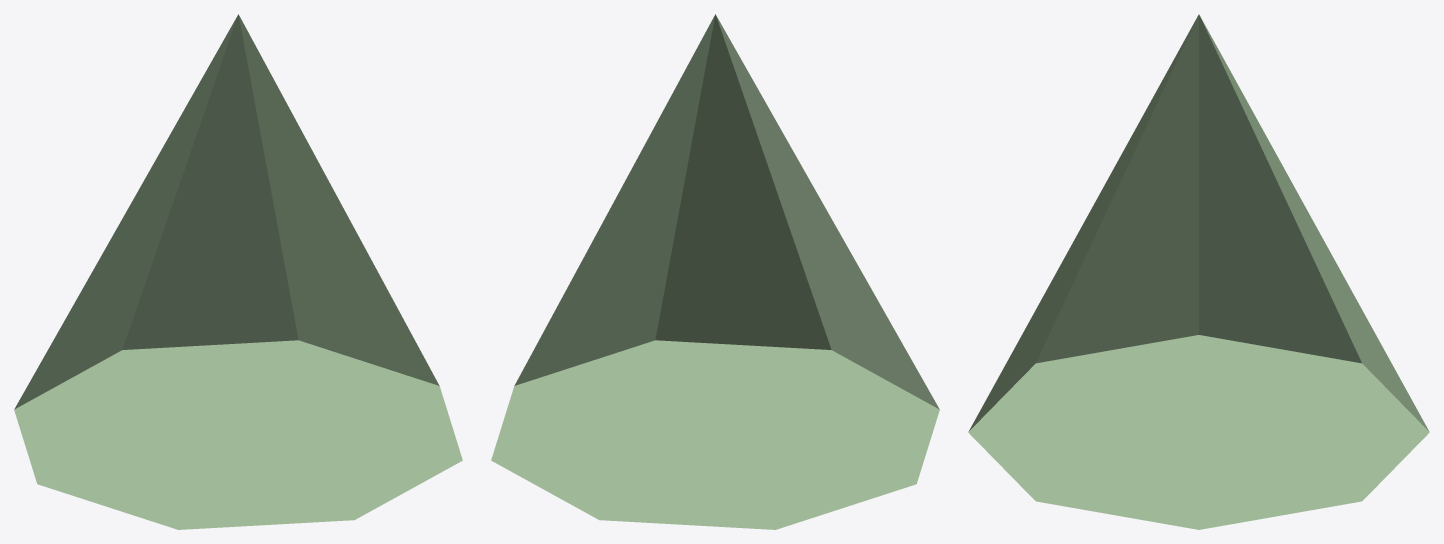
File: tree_round_01.glb
The picture shows the model from 3 angles, left to right: view 1: azimuth 30°, elevation 25°; view 2: azimuth 150°, elevation 25°; view 3: azimuth 270°, elevation 25°; orthographic projection.
Visible parts, largest first — view 1: 圆冠树; view 2: 圆冠树; view 3: 圆冠树.
Boxes of the visible parts, x1,y1,x2,y2 form: 圆冠树: (14, 14, 462, 529); 圆冠树: (491, 14, 939, 529); 圆冠树: (968, 14, 1429, 529).
Size of the model in its own units: 1 by 1 by 1.
